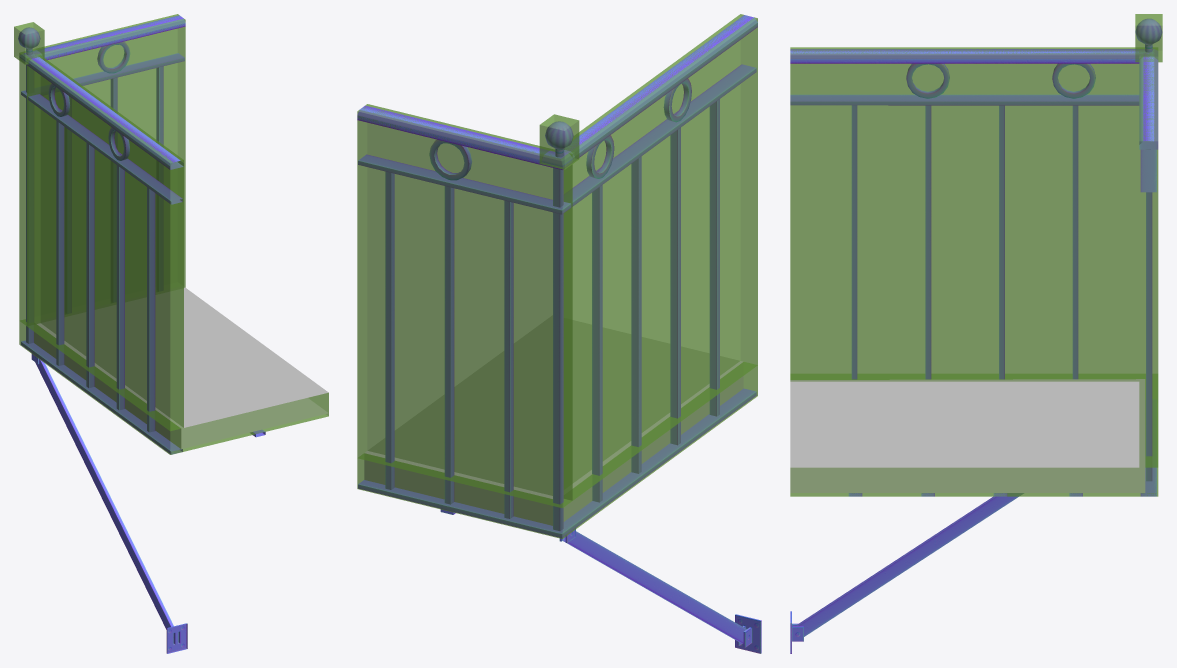
The model's file is F_md_Balcony_L_end_01_m.fbx.
The picture shows the model from 3 angles, left to right: view 1: azimuth 30°, elevation 25°; view 2: azimuth 150°, elevation 25°; view 3: azimuth 270°, elevation 25°; orthographic projection. The views are drawn at different scales.
Parts seen in each view (by area): view 1: F_md_Balcony_L_end_01_m_LOD0, F_md_Balcony_L_end_01_m_col_01, F_md_Balcony_L_end_01_m_col_02, F_md_Balcony_L_end_01_m_col_03, F_md_Balcony_L_end_01_m_col_04; view 2: F_md_Balcony_L_end_01_m_LOD0, F_md_Balcony_L_end_01_m_col_02, F_md_Balcony_L_end_01_m_col_01, F_md_Balcony_L_end_01_m_col_03, F_md_Balcony_L_end_01_m_col_04; view 3: F_md_Balcony_L_end_01_m_col_01, F_md_Balcony_L_end_01_m_LOD0, F_md_Balcony_L_end_01_m_col_03, F_md_Balcony_L_end_01_m_col_02, F_md_Balcony_L_end_01_m_col_04.
Boxes of the visible parts, x1=… form: F_md_Balcony_L_end_01_m_LOD0: x1=18, y1=15, x2=328, y2=653; F_md_Balcony_L_end_01_m_col_01: x1=27, y1=55, x2=183, y2=431; F_md_Balcony_L_end_01_m_col_02: x1=19, y1=14, x2=185, y2=325; F_md_Balcony_L_end_01_m_col_03: x1=19, y1=319, x2=328, y2=454; F_md_Balcony_L_end_01_m_col_04: x1=14, y1=22, x2=44, y2=64; F_md_Balcony_L_end_01_m_LOD0: x1=357, y1=15, x2=761, y2=653; F_md_Balcony_L_end_01_m_col_02: x1=357, y1=104, x2=572, y2=508; F_md_Balcony_L_end_01_m_col_01: x1=564, y1=14, x2=757, y2=500; F_md_Balcony_L_end_01_m_col_03: x1=357, y1=362, x2=757, y2=538; F_md_Balcony_L_end_01_m_col_04: x1=539, y1=114, x2=579, y2=169; F_md_Balcony_L_end_01_m_col_01: x1=790, y1=47, x2=1139, y2=381; F_md_Balcony_L_end_01_m_LOD0: x1=790, y1=18, x2=1162, y2=653; F_md_Balcony_L_end_01_m_col_03: x1=790, y1=374, x2=1158, y2=496; F_md_Balcony_L_end_01_m_col_02: x1=1139, y1=47, x2=1158, y2=467; F_md_Balcony_L_end_01_m_col_04: x1=1135, y1=14, x2=1162, y2=62.
Size of what is drawn, in the model's own units: 61.87 by 188 by 101.
